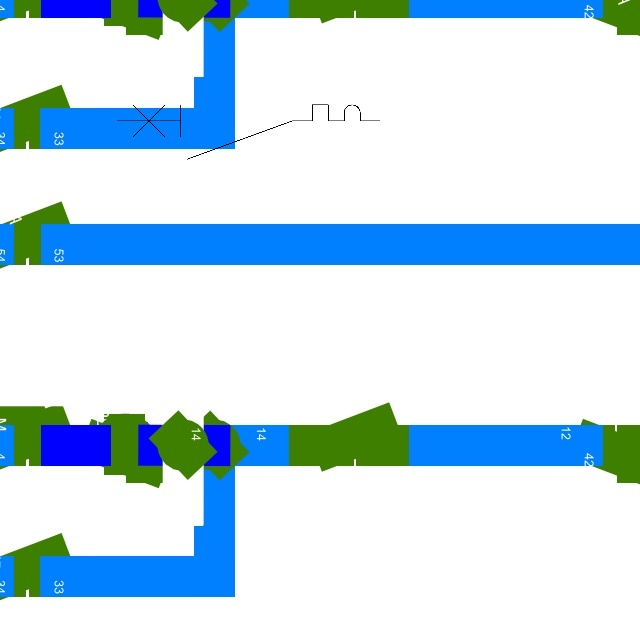interruptor_termomagnetico: (110, 98, 387, 166)
